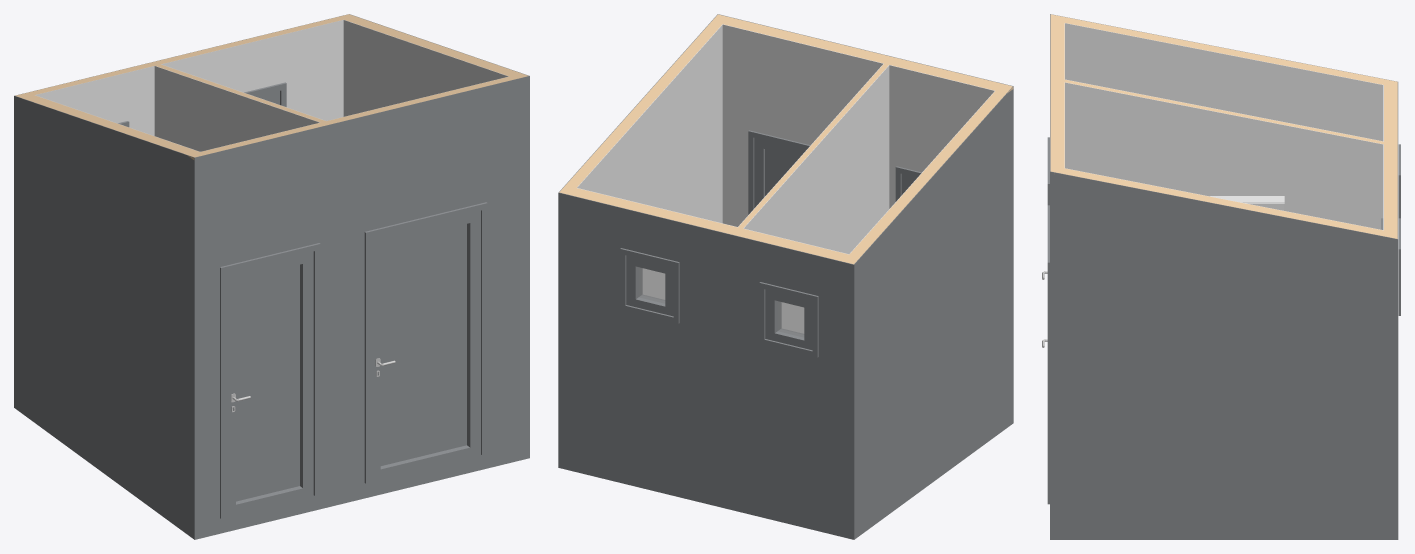
Rendered from Mazesnis_San. mazgas_(2,8x3,0).fbx.
The picture shows the model from 3 angles, left to right: view 1: azimuth 30°, elevation 25°; view 2: azimuth 150°, elevation 25°; view 3: azimuth 270°, elevation 25°; orthographic projection. The views are drawn at different scales.
Visible parts, largest first — view 1: IfcWall/Part:2319977, IfcWall/Part:2368366, IfcDoor/Durys išorinės:1000x2100x120 (dešininės nepermatomo, IfcDoor/Durys išorinės:800x2100x120 (dešininės nepermatomos, IfcWall/Part:2319982, IfcWall/Part:2319979, IfcWall/Part:2319968, IfcWall/Part:2319978, IfcWall/Part:2319984, IfcWall/Part:2368367, IfcWall/Part:2319981, IfcWall/Part:2319969; view 2: IfcWall/Part:2319983, IfcWall/Part:2368366, IfcWall/Part:2319976, IfcWall/Part:2319979, IfcWall/Part:2319968, IfcWindow/Langai (Akrusta):500x500x120:2430598, IfcWindow/Langai (Akrusta):500x500x120:2430812, IfcWall/Part:2319978, IfcWall/Part:2319984, IfcDoor/Durys išorinės:1000x2100x120 (dešininės nepermatomo, IfcWall/Part:2319981, IfcWall/Part:2368367 (+2 smaller); view 3: IfcWall/Part:2319980, IfcWall/Part:2319967, IfcWall/Part:2368365, IfcWall/Part:2319978, IfcWall/Part:2319984, IfcWall/Part:2368367, IfcWall/Part:2319981, IfcWall/Part:2319969, IfcWall/Part:2319983, IfcDoor/Durys išorinės:1000x2100x120 (dešininės nepermatomo, IfcFurnishingElement/Sanitary_Mirrors_Roca_LUNA-600-Mirror-, IfcWall/Part:2319977.
Boxes of the visible parts, <box> form: IfcWall/Part:2319977: <box>194,76,529,539</box>; IfcWall/Part:2368366: <box>14,96,194,539</box>; IfcDoor/Durys išorinės:1000x2100x120 (dešininės nepermatomo: <box>364,202,487,483</box>; IfcDoor/Durys išorinės:800x2100x120 (dešininės nepermatomos: <box>220,243,320,518</box>; IfcWall/Part:2319982: <box>35,19,343,135</box>; IfcWall/Part:2319979: <box>343,20,508,116</box>; IfcWall/Part:2319968: <box>154,66,319,151</box>; IfcWall/Part:2319978: <box>187,73,528,159</box>; IfcWall/Part:2319984: <box>15,14,355,97</box>; IfcWall/Part:2368367: <box>22,95,199,154</box>; IfcWall/Part:2319981: <box>344,16,521,76</box>; IfcWall/Part:2319969: <box>155,64,325,122</box>; IfcWall/Part:2319983: <box>558,192,854,539</box>; IfcWall/Part:2368366: <box>854,86,1013,539</box>; IfcWall/Part:2319976: <box>722,24,994,226</box>; IfcWall/Part:2319979: <box>577,24,722,299</box>; IfcWall/Part:2319968: <box>743,65,889,333</box>; IfcWindow/Langai (Akrusta):500x500x120:2430598: <box>620,248,679,323</box>; IfcWindow/Langai (Akrusta):500x500x120:2430812: <box>759,282,818,357</box>; IfcWall/Part:2319978: <box>712,14,1013,93</box>; IfcWall/Part:2319984: <box>559,185,859,264</box>; IfcDoor/Durys išorinės:1000x2100x120 (dešininės nepermatomo: <box>748,130,810,214</box>; IfcWall/Part:2319981: <box>566,21,722,187</box>; IfcWall/Part:2368367: <box>849,91,1005,256</box>; IfcWall/Part:2319980: <box>1050,171,1397,539</box>; IfcWall/Part:2319967: <box>1065,82,1383,229</box>; IfcWall/Part:2368365: <box>1065,23,1383,141</box>; IfcWall/Part:2319978: <box>1050,14,1064,173</box>; IfcWall/Part:2319984: <box>1384,79,1397,238</box>; IfcWall/Part:2368367: <box>1064,17,1383,84</box>; IfcWall/Part:2319981: <box>1064,168,1383,236</box>; IfcWall/Part:2319969: <box>1064,79,1383,144</box>; IfcWall/Part:2319983: <box>1397,82,1398,539</box>; IfcDoor/Durys išorinės:1000x2100x120 (dešininės nepermatomo: <box>1047,205,1049,504</box>; IfcFurnishingElement/Sanitary_Mirrors_Roca_LUNA-600-Mirror-: <box>1210,196,1284,210</box>; IfcWall/Part:2319977: <box>1050,14,1050,539</box>.
Size of the model in its own units: 300 by 328 by 289.
